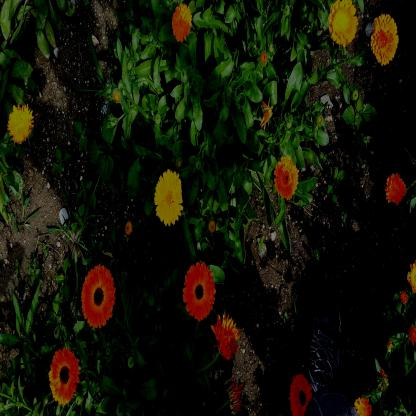marigold: (82, 264, 113, 324), (153, 169, 184, 227), (184, 261, 214, 319), (49, 350, 78, 399), (371, 15, 398, 63), (330, 0, 357, 44), (274, 156, 298, 200), (7, 105, 34, 141), (290, 374, 312, 416), (172, 3, 191, 40), (387, 174, 404, 202)
